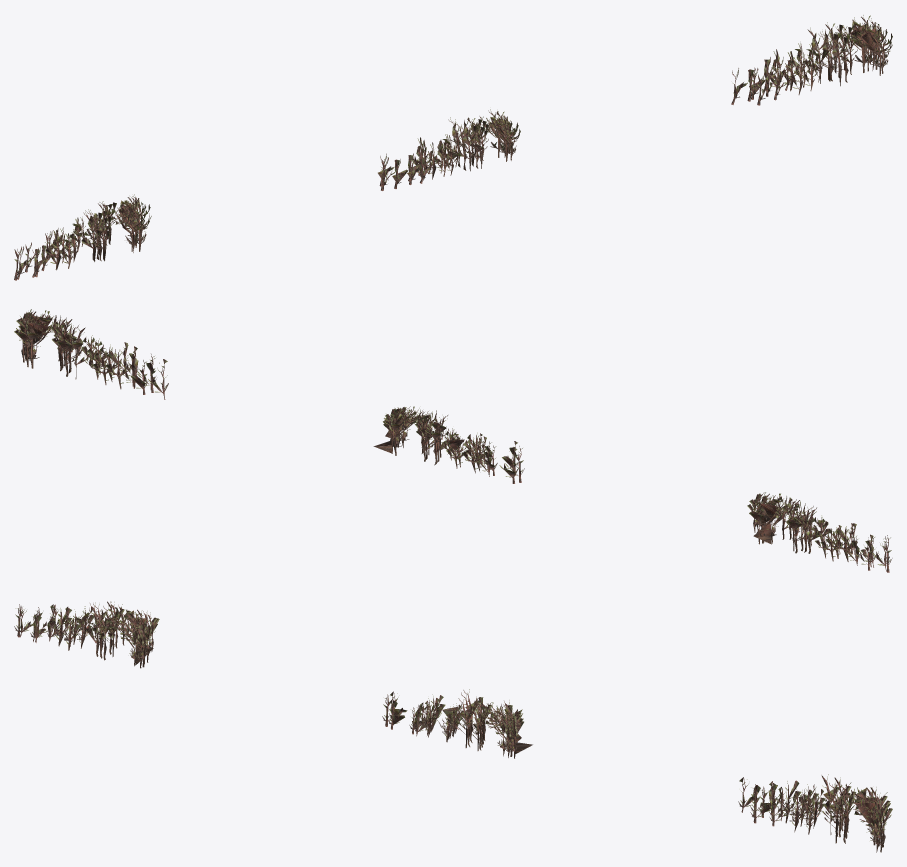
Rendered from shrub_04_lod.glb.
The picture shows the model from 3 angles, top to bottom: view 1: azimuth 30°, elevation 25°; view 2: azimuth 150°, elevation 25°; view 3: azimuth 330°, elevation 25°; orthographic projection.
Visible parts, largest first — view 1: shrub_04_c, shrub_04_b, shrub_04_a; view 2: shrub_04_c, shrub_04_a, shrub_04_b; view 3: shrub_04_c, shrub_04_a, shrub_04_b.
Part boxes in pixels (<box>): shrub_04_c: <box>731,15,892,105</box>; shrub_04_b: <box>378,109,520,190</box>; shrub_04_a: <box>14,194,151,280</box>; shrub_04_c: <box>14,309,168,399</box>; shrub_04_a: <box>747,492,892,572</box>; shrub_04_b: <box>373,406,524,483</box>; shrub_04_c: <box>738,774,892,852</box>; shrub_04_a: <box>14,601,159,668</box>; shrub_04_b: <box>382,689,532,758</box>.
Size of the model in its own units: 3.57 by 0.2314 by 0.1634.
1 material, 1 textured.
